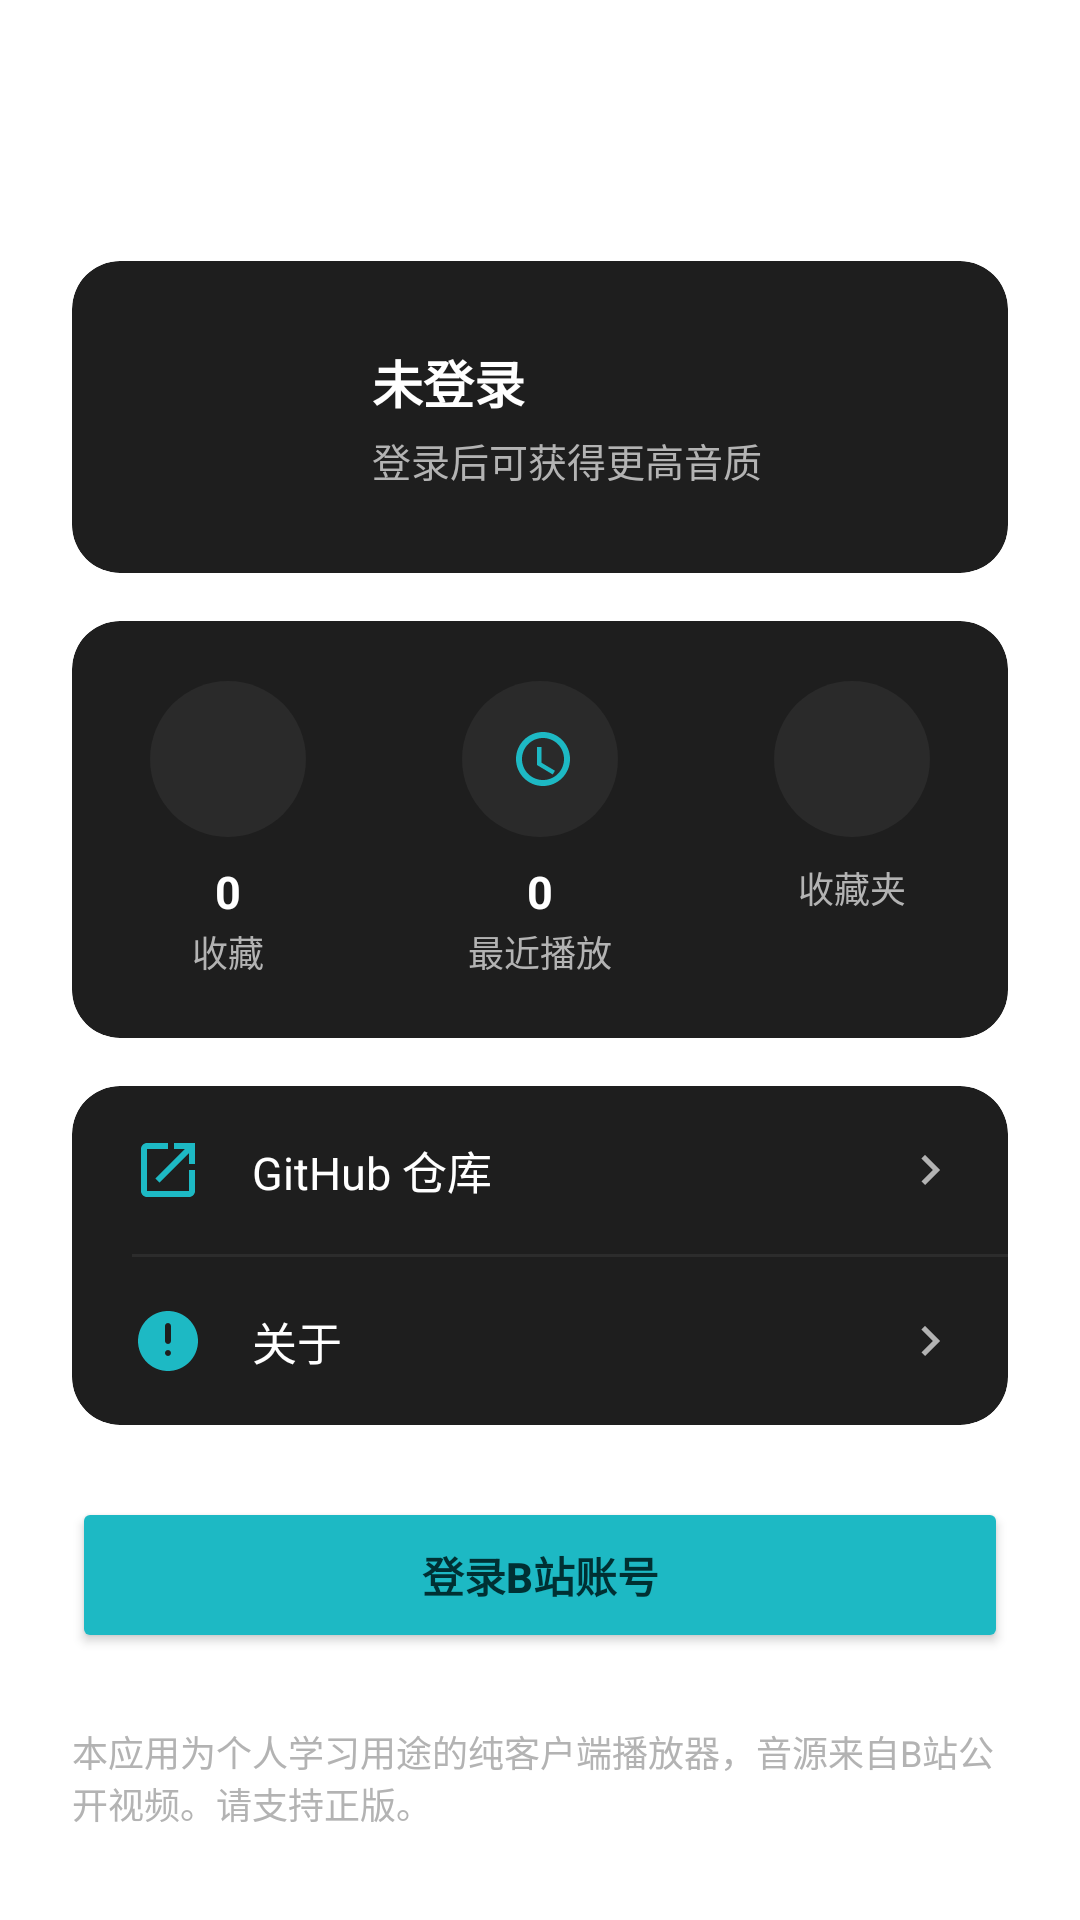

Icons on this 1080×1920 Android screen, each with its box as box=[x1, y1, x2, y2]:
chevron right: box=[921, 1155, 940, 1185], box=[921, 1326, 940, 1356]
history: box=[462, 681, 618, 837]
info: box=[138, 1311, 198, 1371]
open external: box=[141, 1143, 195, 1197]
